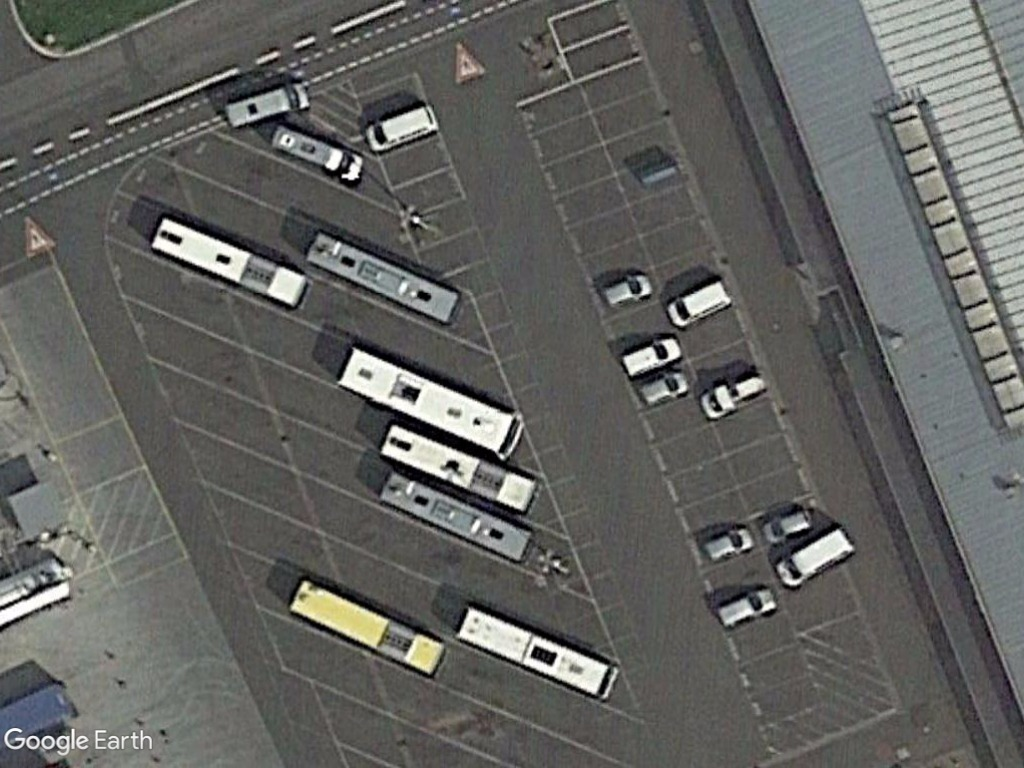bus: (332, 338, 524, 465), (446, 594, 621, 704), (283, 569, 446, 685), (370, 420, 547, 517), (143, 209, 309, 312), (305, 226, 465, 332), (374, 468, 539, 566)
car: (699, 519, 762, 565), (597, 271, 659, 312), (719, 584, 779, 625), (637, 367, 693, 406), (760, 506, 812, 543)
van: (267, 122, 361, 190), (772, 521, 861, 591), (220, 77, 314, 131), (362, 100, 443, 157), (664, 277, 735, 333), (618, 333, 685, 377)
